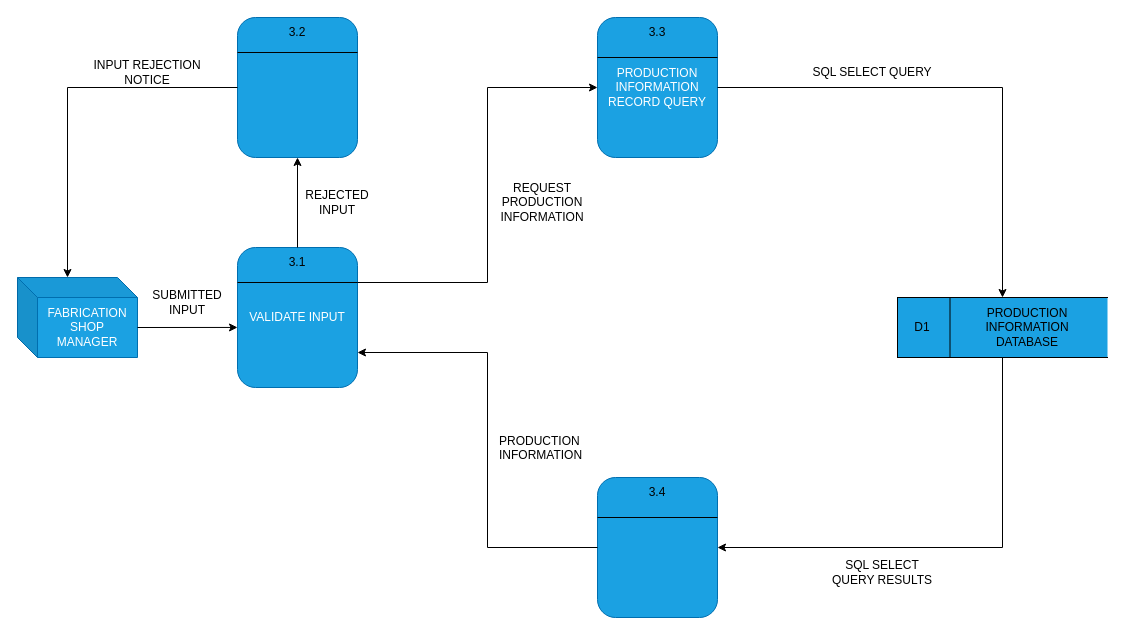
The diagram is 1125 pixels wide and 635 high, and some of its shapes have lost their labels. The box of each missing label's shape, as (x1, y1, x2, y2) in pixels:
REJECT INPUT: (236, 16, 358, 158)
RETURN QUERY RESULTS: (596, 476, 718, 618)
